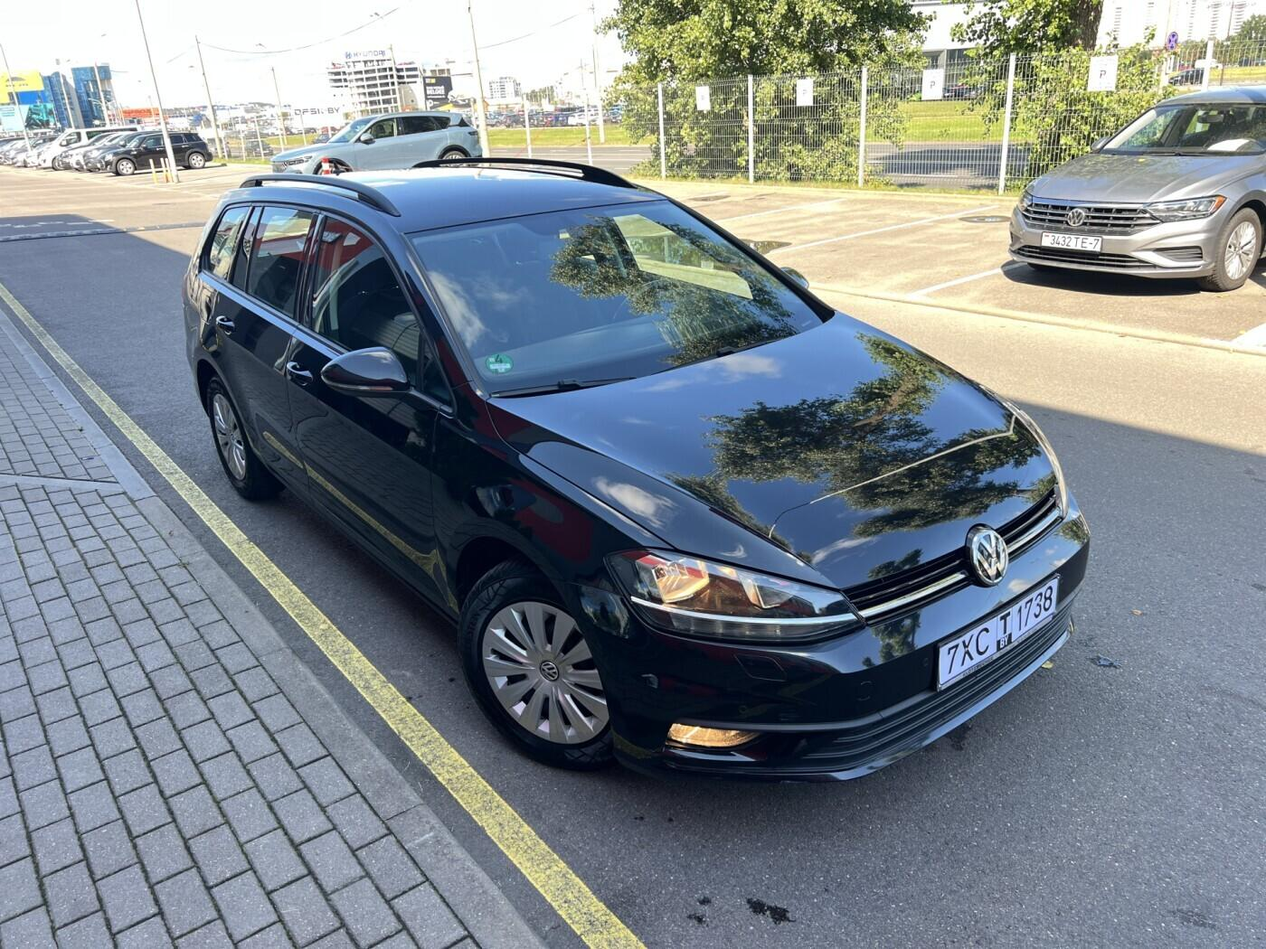Golf_2017-2021: (181, 161, 1090, 789)
